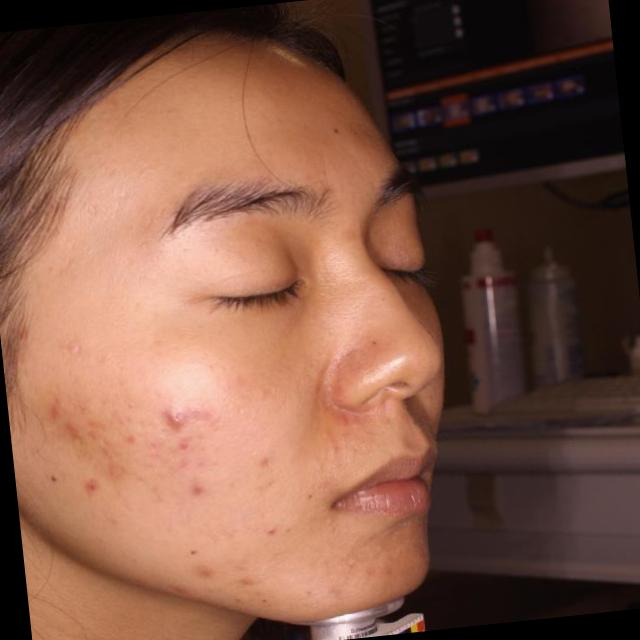acne: (148, 386, 206, 431), (247, 443, 287, 496), (101, 442, 147, 488), (57, 409, 101, 452), (182, 560, 218, 598), (176, 466, 219, 494), (80, 475, 112, 511), (164, 431, 198, 458), (40, 389, 61, 414)
